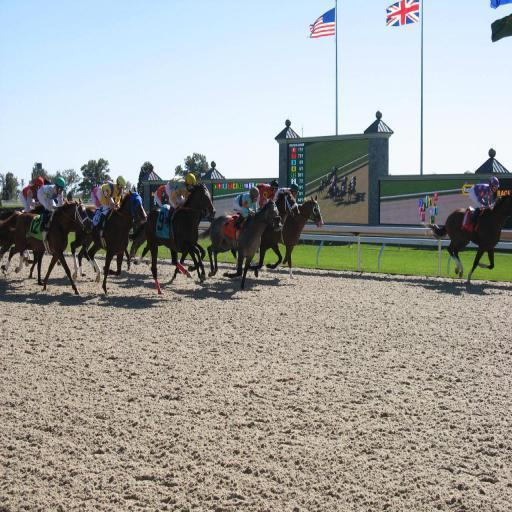horse: (0, 182, 324, 298), (423, 192, 512, 282)
